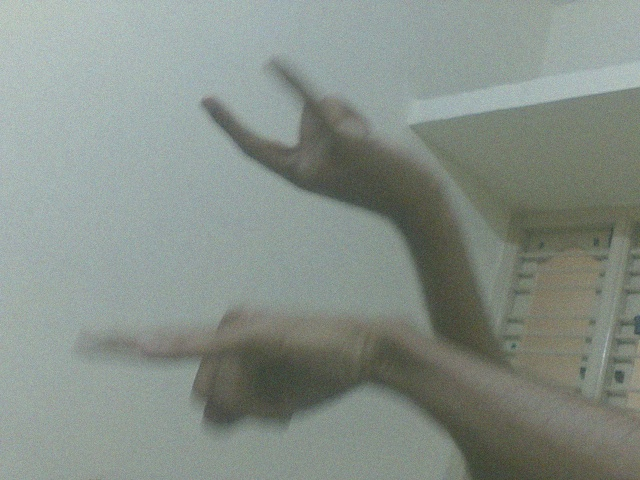hand: (74, 298, 377, 436), (198, 51, 428, 219)
